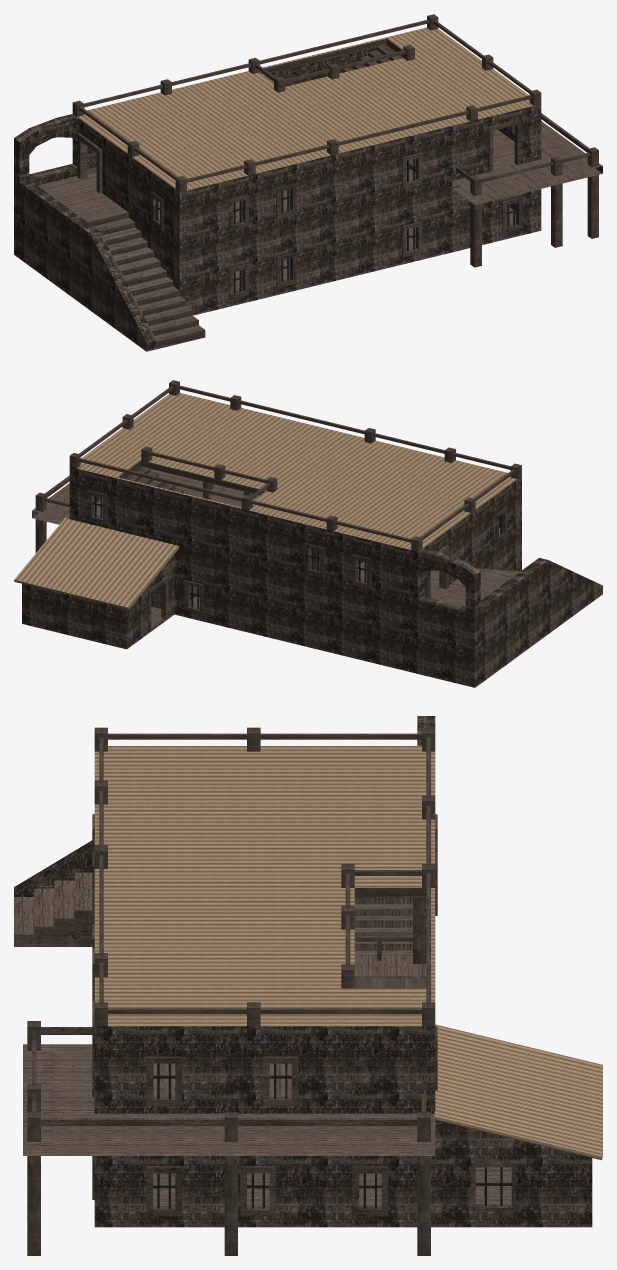
File: buildings_small_barracks.glb
3 views of the same model, one above another, from view 1: azimuth 30°, elevation 25°; view 2: azimuth 150°, elevation 25°; view 3: azimuth 270°, elevation 25° (orthographic). The views are drawn at different scales.
Parts seen in each view (by area): view 1: barracks; view 2: barracks; view 3: barracks.
Boxes of the visible parts, x1,y1,x2,y2 form: barracks: (14,14,602,351); barracks: (14,380,602,687); barracks: (14,716,602,1255).
Size of the model in its own units: 47 by 13.5 by 32.85.
Materials: 6 (6 with a texture image).
